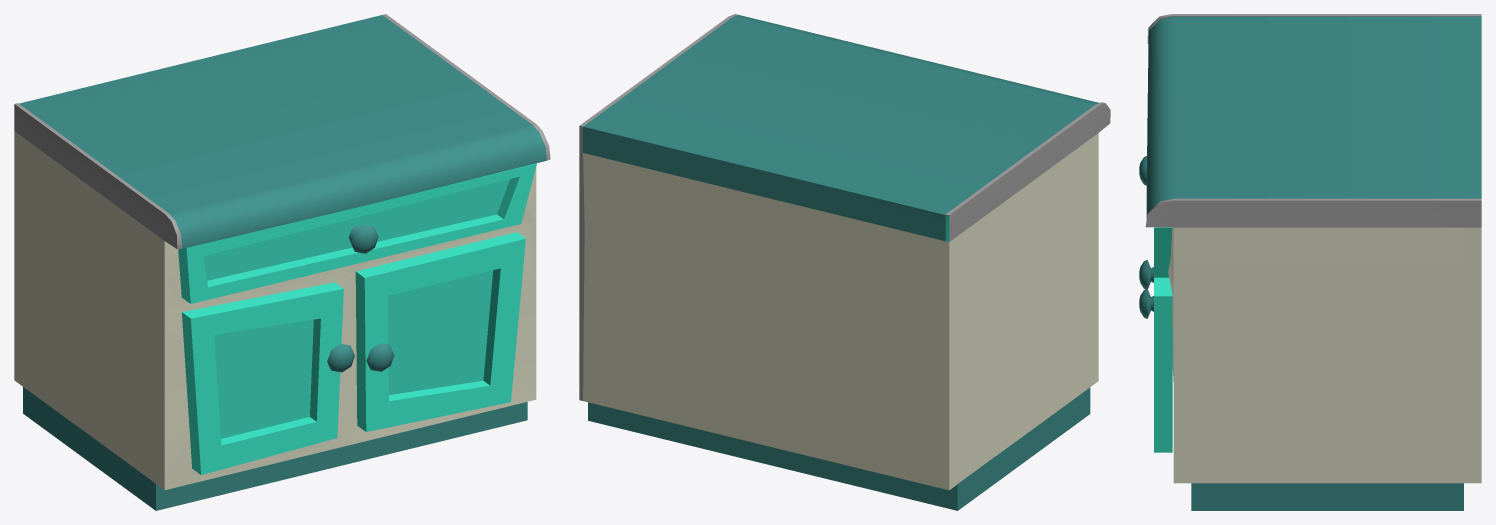
The model's file is NewWorkTable1.fbx.
The picture shows the model from 3 angles, left to right: view 1: azimuth 30°, elevation 25°; view 2: azimuth 150°, elevation 25°; view 3: azimuth 270°, elevation 25°; orthographic projection. The views are drawn at different scales.
Parts seen in each view (by area): view 1: Cube.001; view 2: Cube.001; view 3: Cube.001.
Boxes of the visible parts, x1,y1,x2,y2 form: Cube.001: [14, 14, 550, 510]; Cube.001: [579, 14, 1110, 510]; Cube.001: [1139, 14, 1481, 510].
Bounding box in the file's own units: 100 × 77.99 × 77.83.
